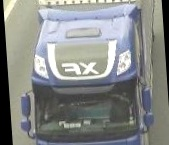truck: (12, 0, 166, 145)
